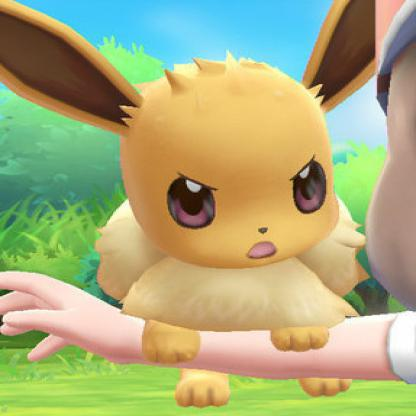Eevee: (1, 1, 401, 331)
